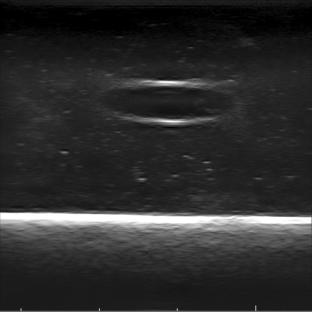vessel: (98, 80, 237, 126)
